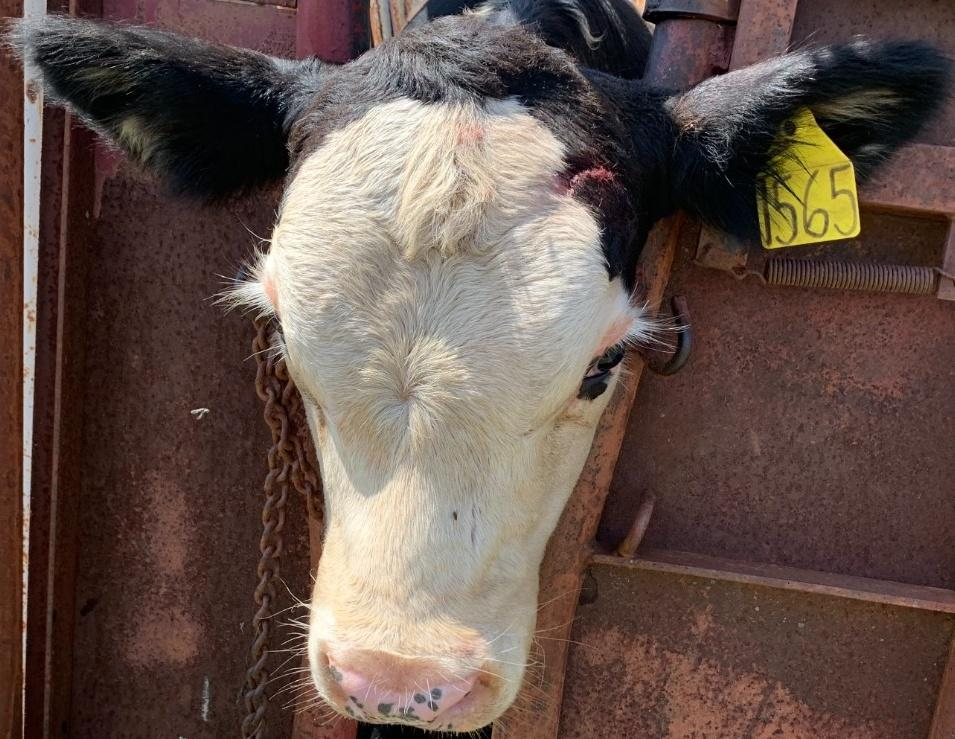muzzles: (280, 592, 536, 739)
